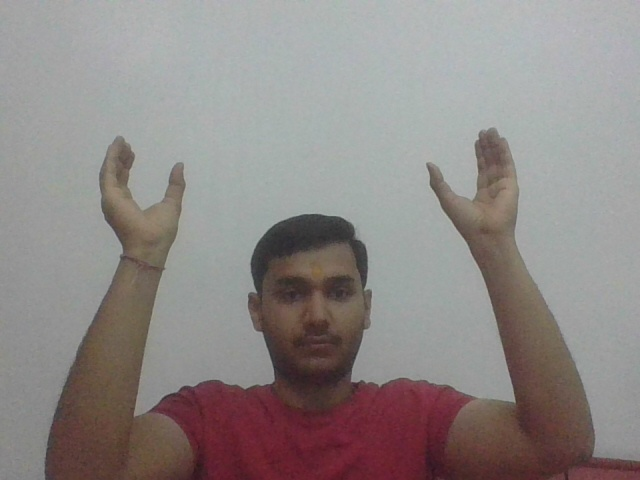U: (423, 125, 528, 245), (95, 132, 193, 249)
